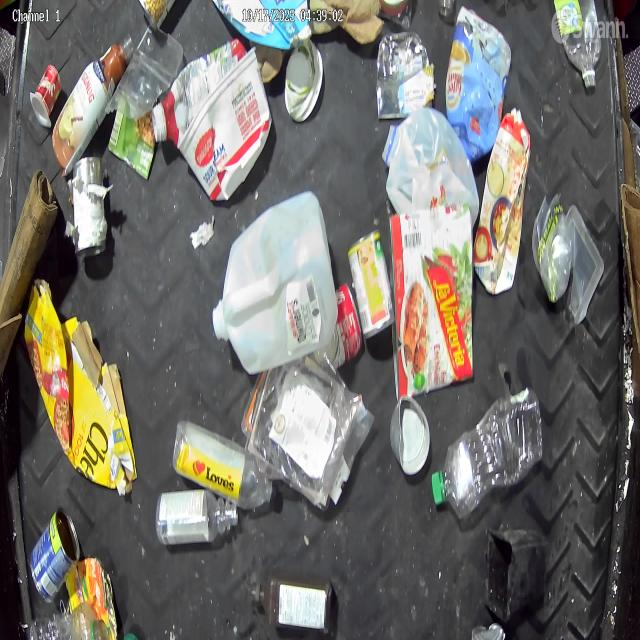milk-jug: (212, 190, 346, 374)
